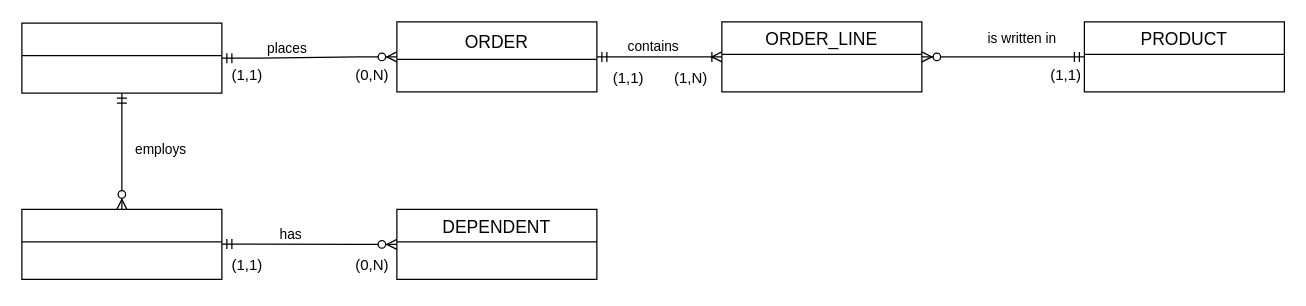
Image size: 1306x306. Some labels were removed from this diagram. The shapes that lost their labels are listed below. From the top down, each one's box as (x1, y1, x2, y2) in pixels, then its label:
(21, 22, 222, 93): STORE
(21, 208, 222, 279): EMPLOYEE
